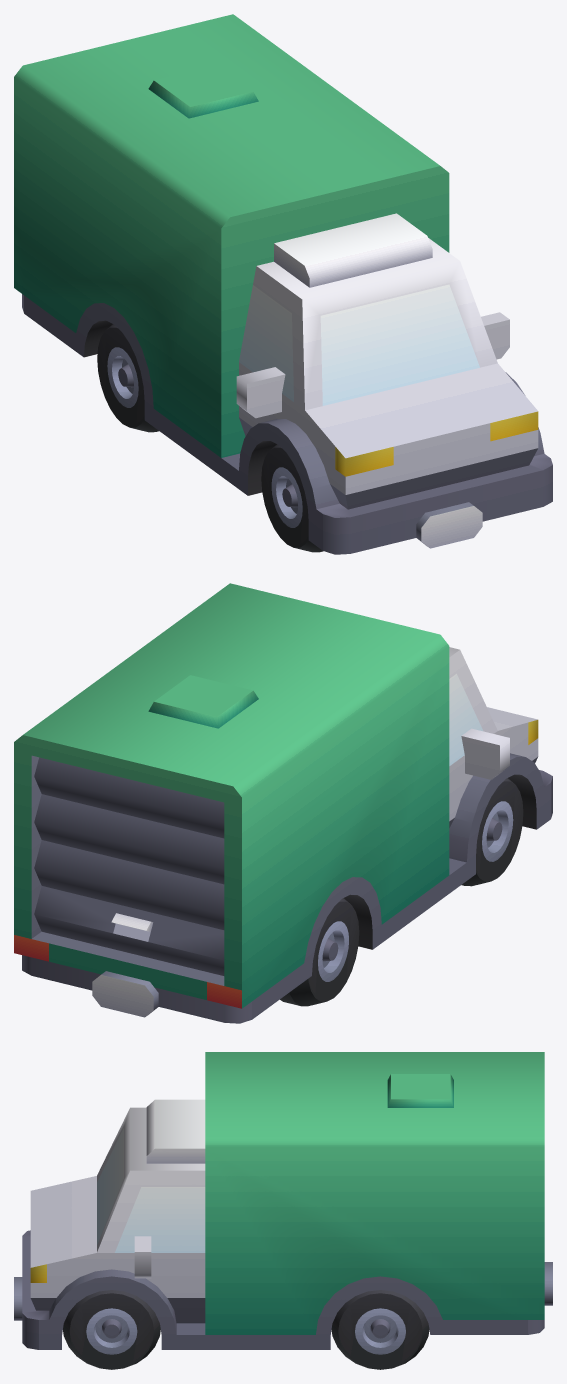
Rendered from kenney-delivery.glb.
3 renders of one model, top to bottom at view 1: azimuth 30°, elevation 25°; view 2: azimuth 150°, elevation 25°; view 3: azimuth 270°, elevation 25°, orthographic. The views are drawn at different scales.
Visible parts, largest first — view 1: door; view 2: door; view 3: door.
Boxes of the visible parts, x1,y1,x2,y2 form: door: [14, 14, 552, 554]; door: [14, 583, 552, 1023]; door: [14, 1052, 552, 1369].
Size of the model in its own units: 1.5 by 1.65 by 3.25.
1 material, 1 textured.
